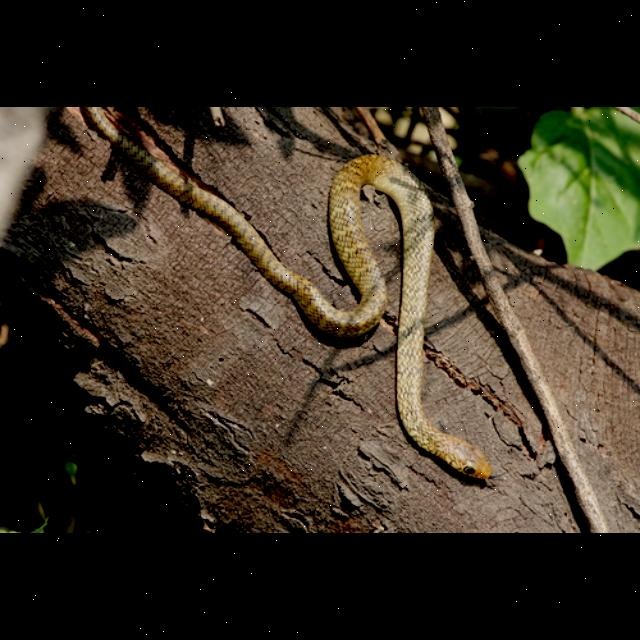snake: (68, 108, 520, 486)
